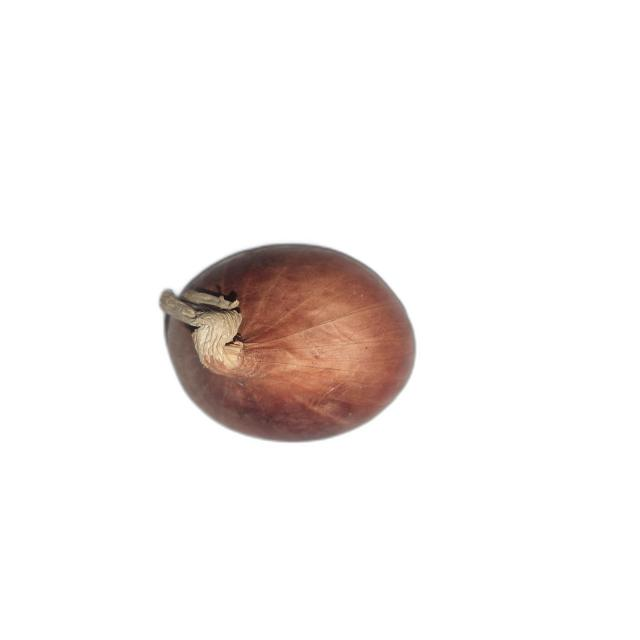onion: (156, 243, 417, 444)
